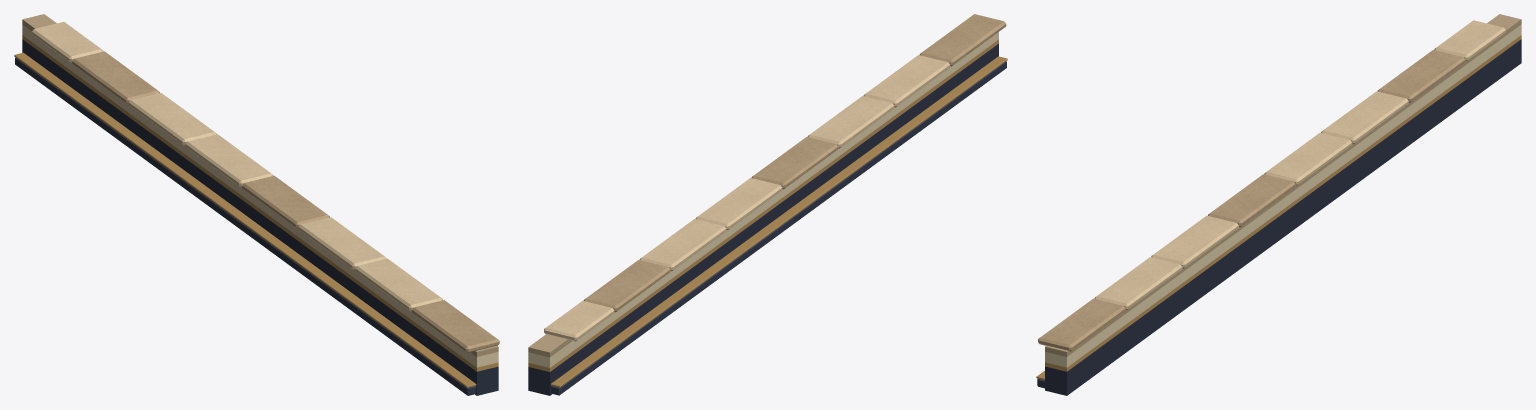
Rendered from right-wall.glb.
The picture shows the model from 3 angles, left to right: view 1: azimuth 30°, elevation 25°; view 2: azimuth 150°, elevation 25°; view 3: azimuth 330°, elevation 25°; orthographic projection.
Parts seen in each view (by area): view 1: Wainscot3, Side bronze floorline.001, Plaster3, Side oak skirting.001, BrassRail3, Jointed coping stone.008, Jointed coping stone.012, Jointed coping stone.011, Jointed coping stone.013, Jointed coping stone.014, Jointed coping stone.009, Jointed coping stone.010 (+2 smaller); view 2: Wainscot3, Side bronze floorline.001, Plaster3, Side oak skirting.001, BrassRail3, Jointed coping stone.011, Jointed coping stone.012, Jointed coping stone.013, Jointed coping stone.010, Jointed coping stone.008, Jointed coping stone.014, Jointed coping stone.009 (+2 smaller); view 3: Wainscot3, Plaster3, BrassRail3, Jointed coping stone.008, Cap3, Jointed coping stone.009, Jointed coping stone.014, Jointed coping stone.010, Jointed coping stone.011, Jointed coping stone.012, Jointed coping stone.013, Jointed coping stone.015.
Boxes of the visible parts, <box> form: Wainscot3: <box>22,39,498,395</box>; Side bronze floorline.001: <box>14,52,476,387</box>; Plaster3: <box>22,24,498,367</box>; Side oak skirting.001: <box>15,57,476,395</box>; BrassRail3: <box>22,35,498,371</box>; Jointed coping stone.008: <box>412,300,499,352</box>; Jointed coping stone.012: <box>185,134,273,187</box>; Jointed coping stone.011: <box>242,175,329,228</box>; Jointed coping stone.013: <box>129,93,216,145</box>; Jointed coping stone.014: <box>72,51,159,104</box>; Jointed coping stone.009: <box>355,258,442,311</box>; Jointed coping stone.010: <box>299,217,386,270</box>; Wainscot3: <box>528,43,998,395</box>; Side bronze floorline.001: <box>551,56,1007,387</box>; Plaster3: <box>528,32,998,367</box>; Side oak skirting.001: <box>551,61,1006,395</box>; BrassRail3: <box>528,39,998,371</box>; Jointed coping stone.011: <box>751,137,838,189</box>; Jointed coping stone.012: <box>695,178,782,230</box>; Jointed coping stone.013: <box>639,219,726,271</box>; Jointed coping stone.010: <box>807,96,894,148</box>; Jointed coping stone.008: <box>919,14,1006,66</box>; Jointed coping stone.014: <box>583,260,670,312</box>; Jointed coping stone.009: <box>863,55,950,107</box>; Wainscot3: <box>1045,39,1521,395</box>; Plaster3: <box>1045,24,1521,367</box>; BrassRail3: <box>1045,35,1521,371</box>; Jointed coping stone.008: <box>1038,298,1125,351</box>; Cap3: <box>1045,14,1521,356</box>; Jointed coping stone.009: <box>1094,257,1182,310</box>; Jointed coping stone.014: <box>1377,50,1465,102</box>; Jointed coping stone.010: <box>1151,215,1238,268</box>; Jointed coping stone.011: <box>1208,174,1295,227</box>; Jointed coping stone.012: <box>1264,133,1351,185</box>; Jointed coping stone.013: <box>1321,91,1408,144</box>; Jointed coping stone.015: <box>1434,20,1505,61</box>.
Bounding box in the file's own units: 0.392 × 0.543 × 9.
Materials: 8 (2 with a texture image).
